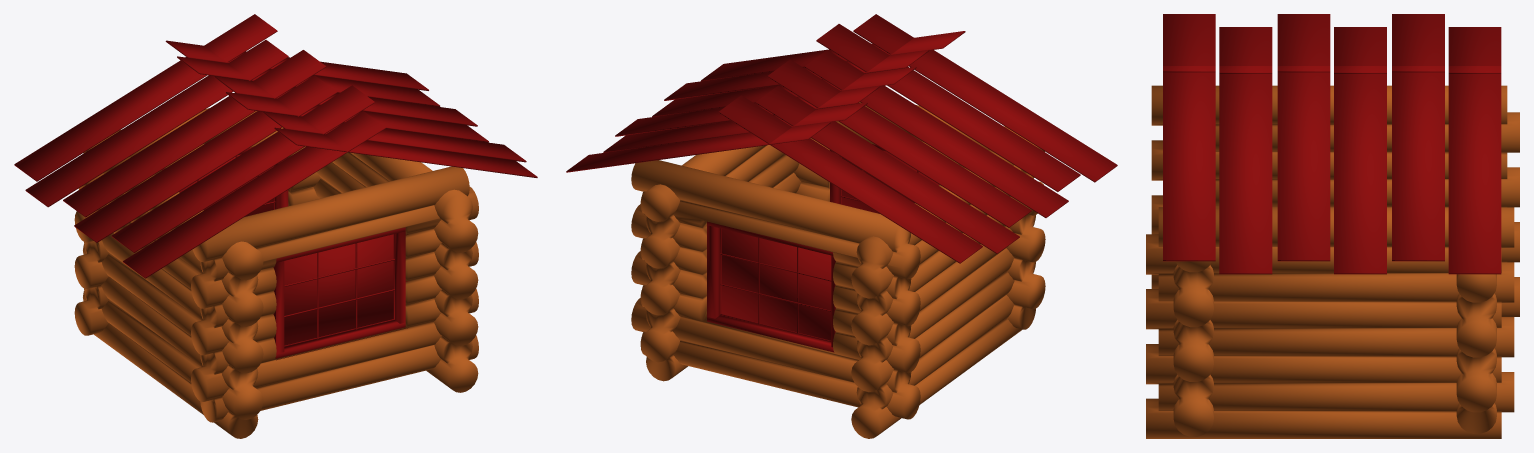
Rendered from male02.obj.
The picture shows the model from 3 angles, left to right: view 1: azimuth 30°, elevation 25°; view 2: azimuth 150°, elevation 25°; view 3: azimuth 270°, elevation 25°; orthographic projection. The views are drawn at different scales.
Visible parts, largest first — view 1: Cylinder003, Cylinder002, FixedWindow003, Cylinder004, Box001, Box005, Box003, Box004, Box006, Box002, Cylinder001, Box012 (+6 smaller); view 2: Cylinder001, Cylinder002, FixedWindow002, Cylinder004, Box006, Box005, Box003, Box001, Box004, Box002, Cylinder003, Box007 (+6 smaller); view 3: Cylinder004, Box010, Box011, Box007, Box008, Box012, Box009, Cylinder002, Cylinder003, Cylinder001, Box002, Box006 (+4 smaller).
Boxes of the visible parts, left/top/right/bottom form: Cylinder003: left=191, top=166, right=478, bottom=422; Cylinder002: left=83, top=152, right=263, bottom=438; FixedWindow003: left=273, top=227, right=407, bottom=360; Cylinder004: left=313, top=152, right=478, bottom=392; Box001: left=123, top=111, right=385, bottom=278; Box005: left=25, top=40, right=288, bottom=207; Box003: left=74, top=75, right=337, bottom=242; Box004: left=63, top=50, right=325, bottom=217; Box006: left=14, top=14, right=277, bottom=181; Box002: left=111, top=85, right=374, bottom=252; Cylinder001: left=74, top=108, right=320, bottom=335; Box012: left=274, top=127, right=537, bottom=177; Cylinder001: left=631, top=160, right=920, bottom=419; Cylinder002: left=851, top=149, right=1021, bottom=438; FixedWindow002: left=707, top=221, right=835, bottom=352; Cylinder004: left=640, top=145, right=801, bottom=381; Box006: left=718, top=95, right=982, bottom=263; Box005: left=755, top=85, right=1019, bottom=253; Box003: left=804, top=50, right=1068, bottom=217; Box001: left=853, top=14, right=1117, bottom=182; Box004: left=767, top=59, right=1031, bottom=227; Box002: left=816, top=24, right=1080, bottom=191; Cylinder003: left=794, top=102, right=1045, bottom=329; Box007: left=566, top=122, right=830, bottom=172; Cylinder004: left=1146, top=207, right=1514, bottom=438; Box010: left=1277, top=14, right=1330, bottom=261; Box011: left=1219, top=27, right=1272, bottom=274; Box007: left=1448, top=27, right=1501, bottom=274; Box008: left=1392, top=14, right=1444, bottom=261; Box012: left=1163, top=14, right=1215, bottom=261; Box009: left=1334, top=27, right=1386, bottom=274; Cylinder002: left=1151, top=85, right=1519, bottom=316; Cylinder003: left=1173, top=261, right=1213, bottom=436; Cylinder001: left=1456, top=274, right=1496, bottom=433; Box002: left=1219, top=66, right=1272, bottom=73; Box006: left=1448, top=66, right=1501, bottom=73.
Bounding box in the file's own units: 546 × 362 × 370.
